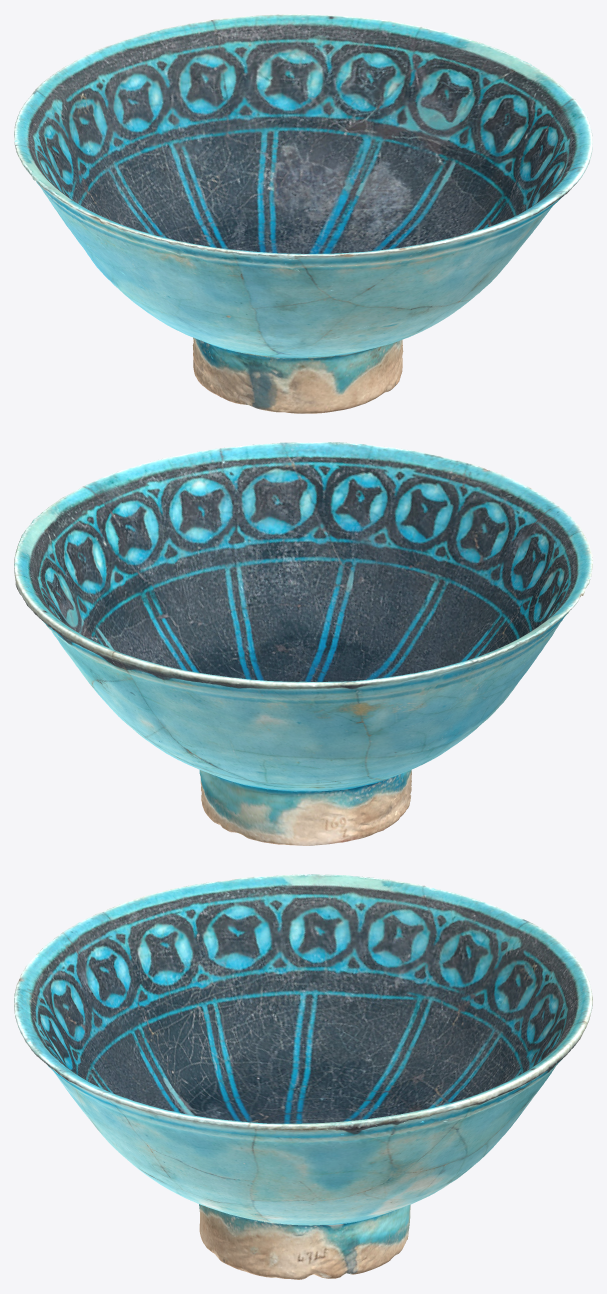
3 views of the same model, one above another, from view 1: azimuth 30°, elevation 25°; view 2: azimuth 150°, elevation 25°; view 3: azimuth 270°, elevation 25° (orthographic).
Visible parts, largest first — view 1: Object_2; view 2: Object_2; view 3: Object_2.
Boxes of the visible parts, x1,y1,x2,y2 form: Object_2: [14, 14, 592, 413]; Object_2: [14, 442, 592, 845]; Object_2: [14, 874, 592, 1279].
Size of the model in its own units: 0.2376 by 0.1099 by 0.2365.
Materials: 1 (1 with a texture image).
